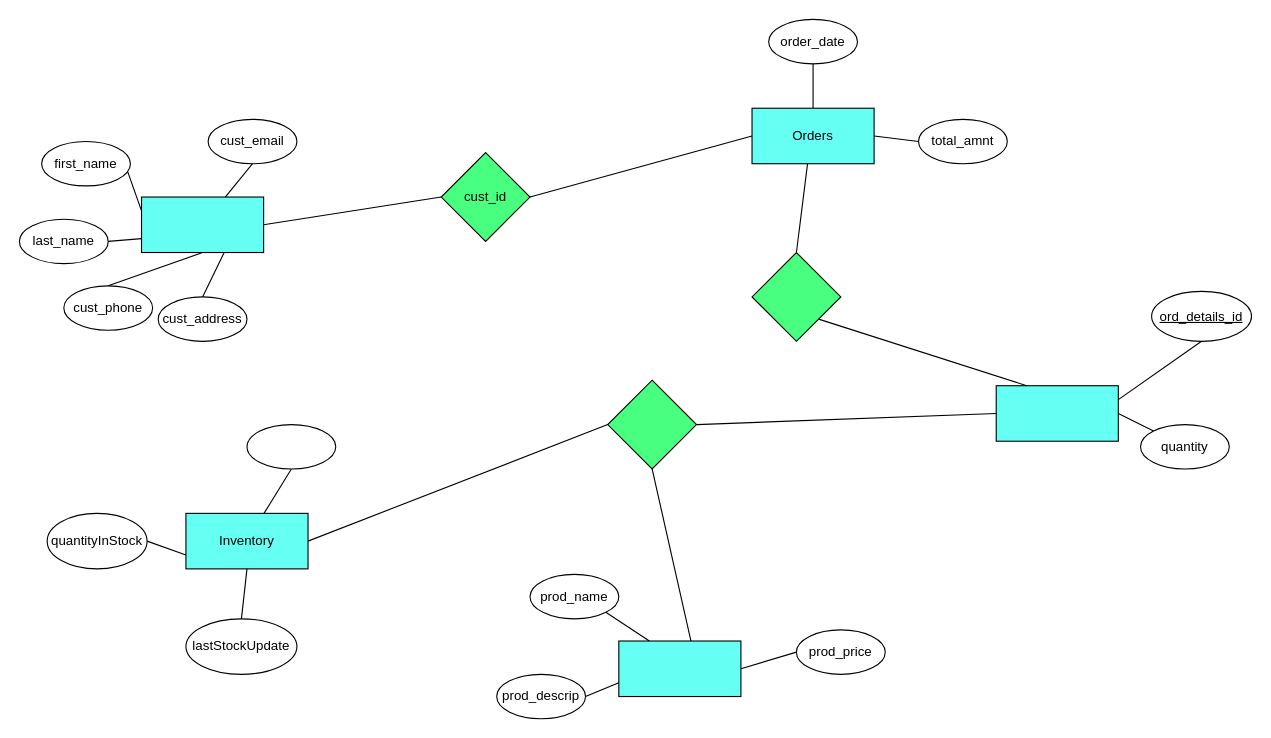
This 1271x738 diagram has some shape labels left out. Here are the shapes that lost their labels. From the top down, the centre of each, then its label:
At pixel 202 224: "Customers".
At pixel 796 296: "order_id".
At pixel 652 424: "prod_id".
At pixel 1056 413: "order_details".
At pixel 291 446: "inventory_id".
At pixel 679 668: "Products".
